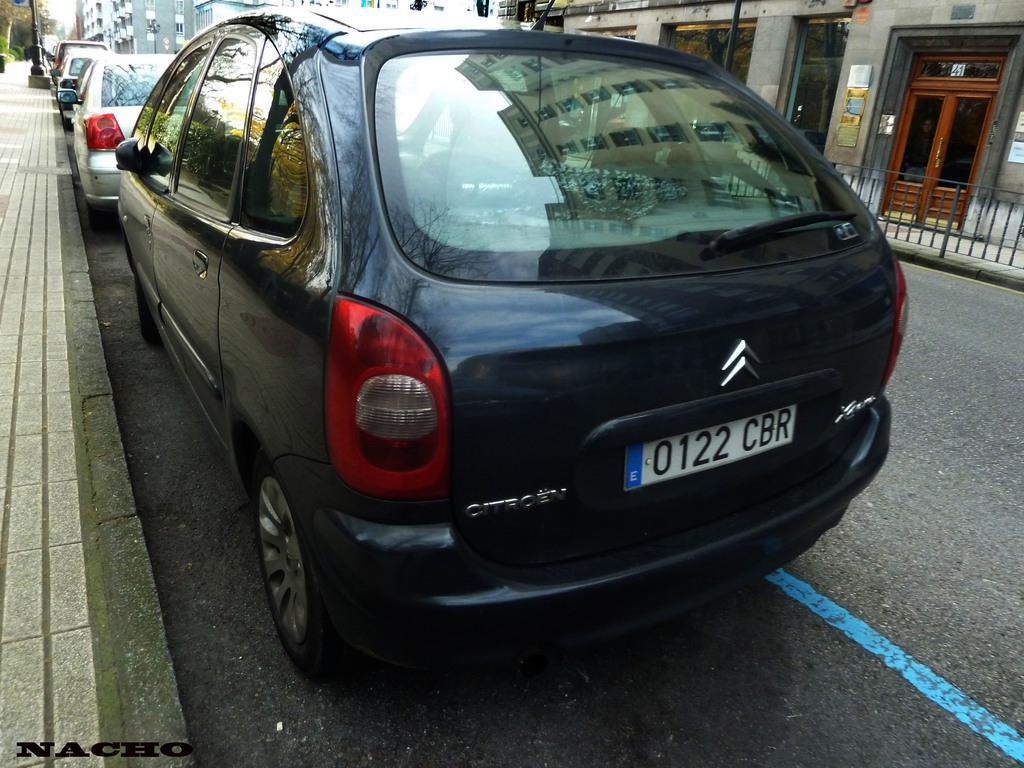License_Plate: (623, 406, 798, 494)
